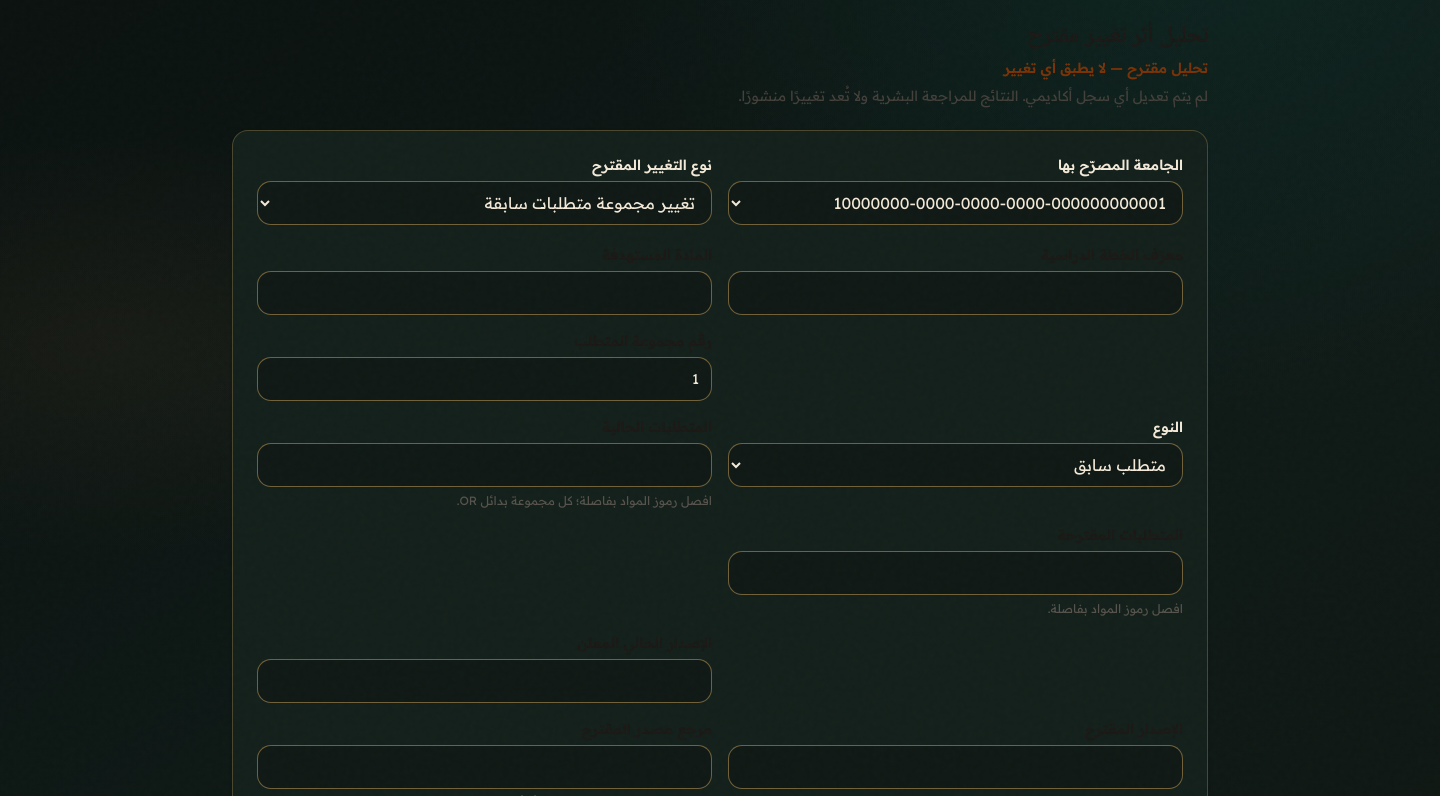
Scenario: policy change remains human review and does not invent before/after
This screenshot has width=1440, height=796.
Expected: the dropdown labelled "الجامعة المصرّح بها" is shown, left=728, top=181, right=1183, bottom=225
Step 1. Select "تغيير إصدار لائحة" in the dropdown labelled "نوع التغيير المقترح" → (484, 203), box left=257, top=181, right=712, bottom=225
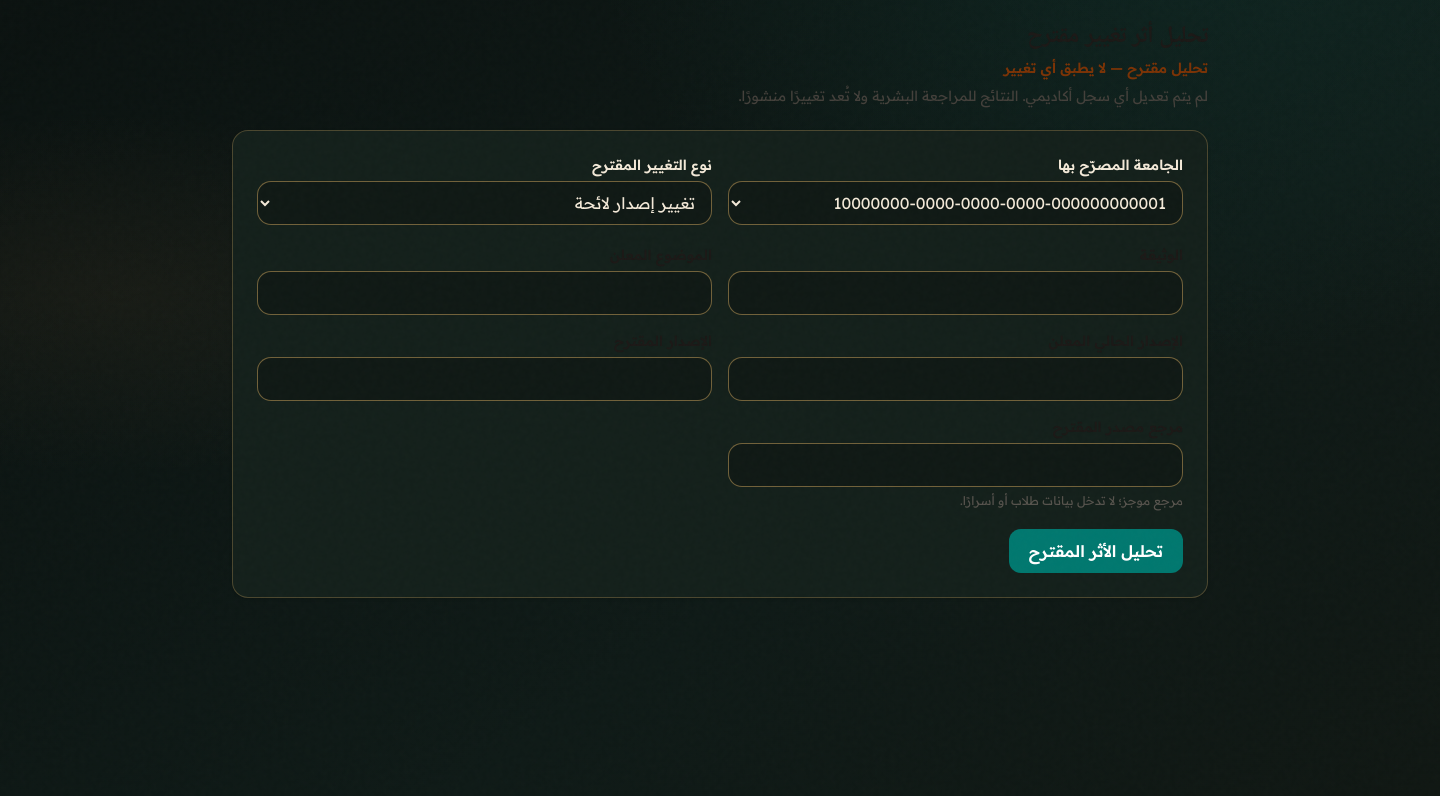
Step 2. Type "POLICY-A" into the field labelled "الوثيقة" → (956, 293), box left=728, top=271, right=1183, bottom=315
Step 3. Type "admission" into the field labelled "الموضوع المعلن" → (484, 293), box left=257, top=271, right=712, bottom=315
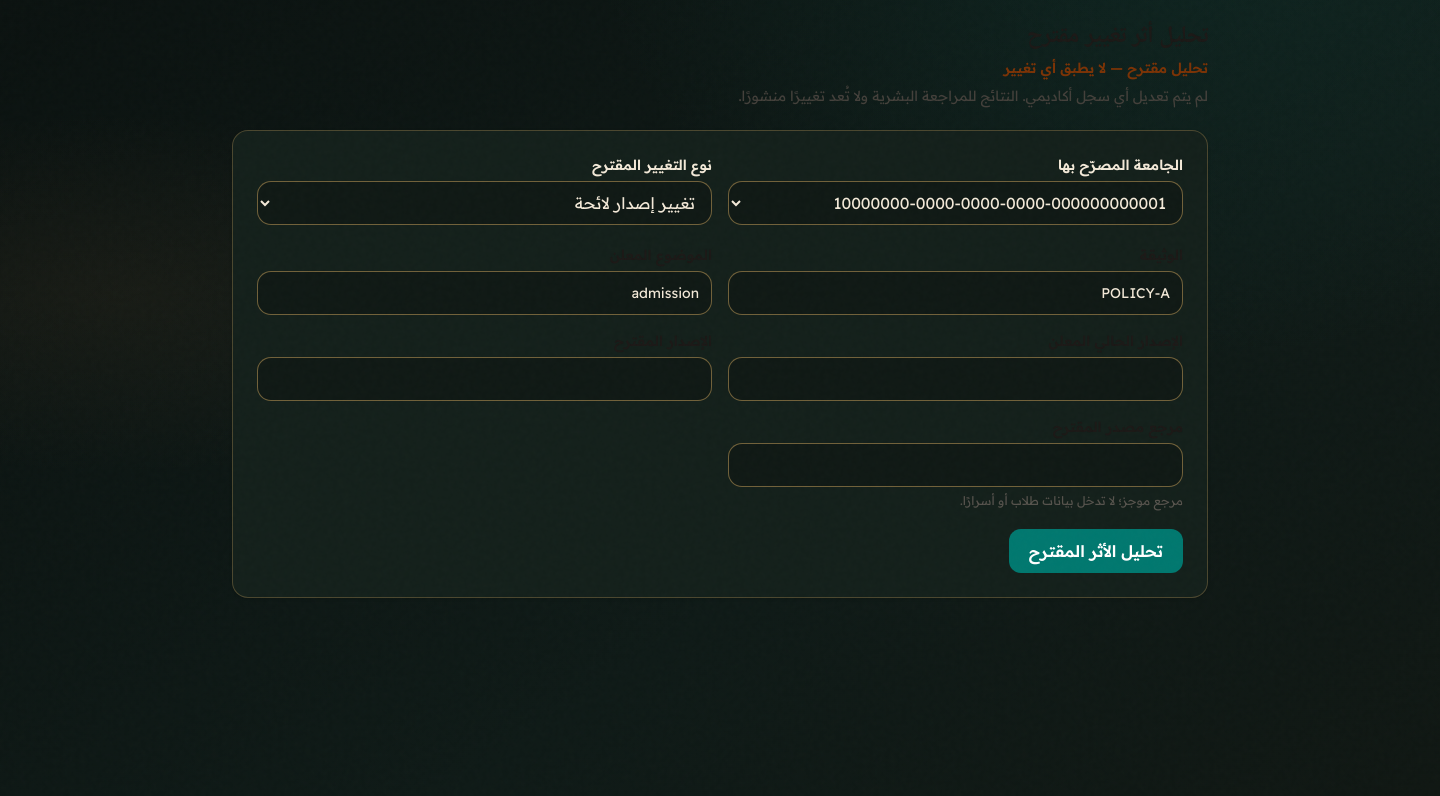
Step 4. Type "v1" into the field labelled "الإصدار الحالي المعلن" → (956, 379), box left=728, top=357, right=1183, bottom=401
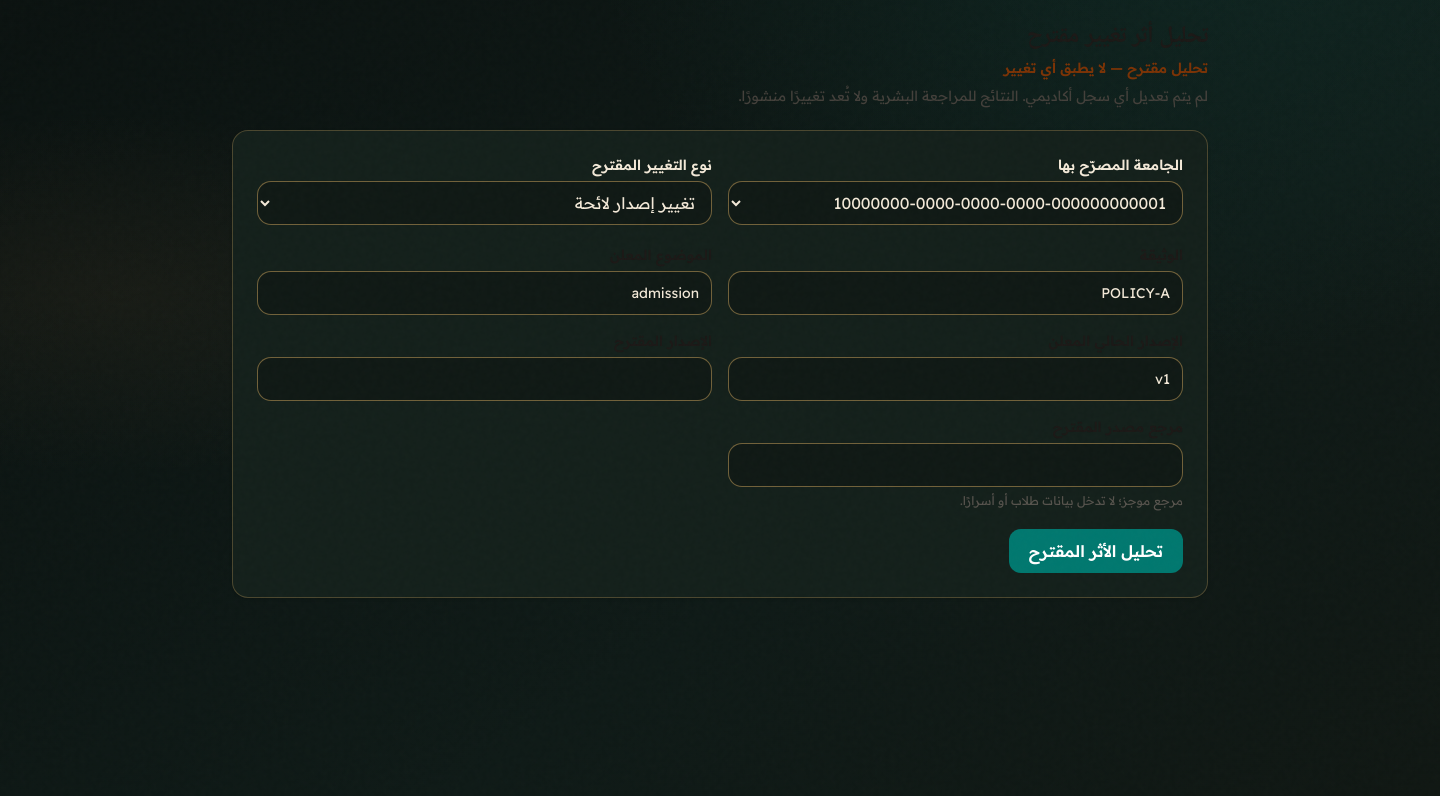
Step 5. Type "v2" into the field labelled "الإصدار المقترح" → (484, 379), box left=257, top=357, right=712, bottom=401
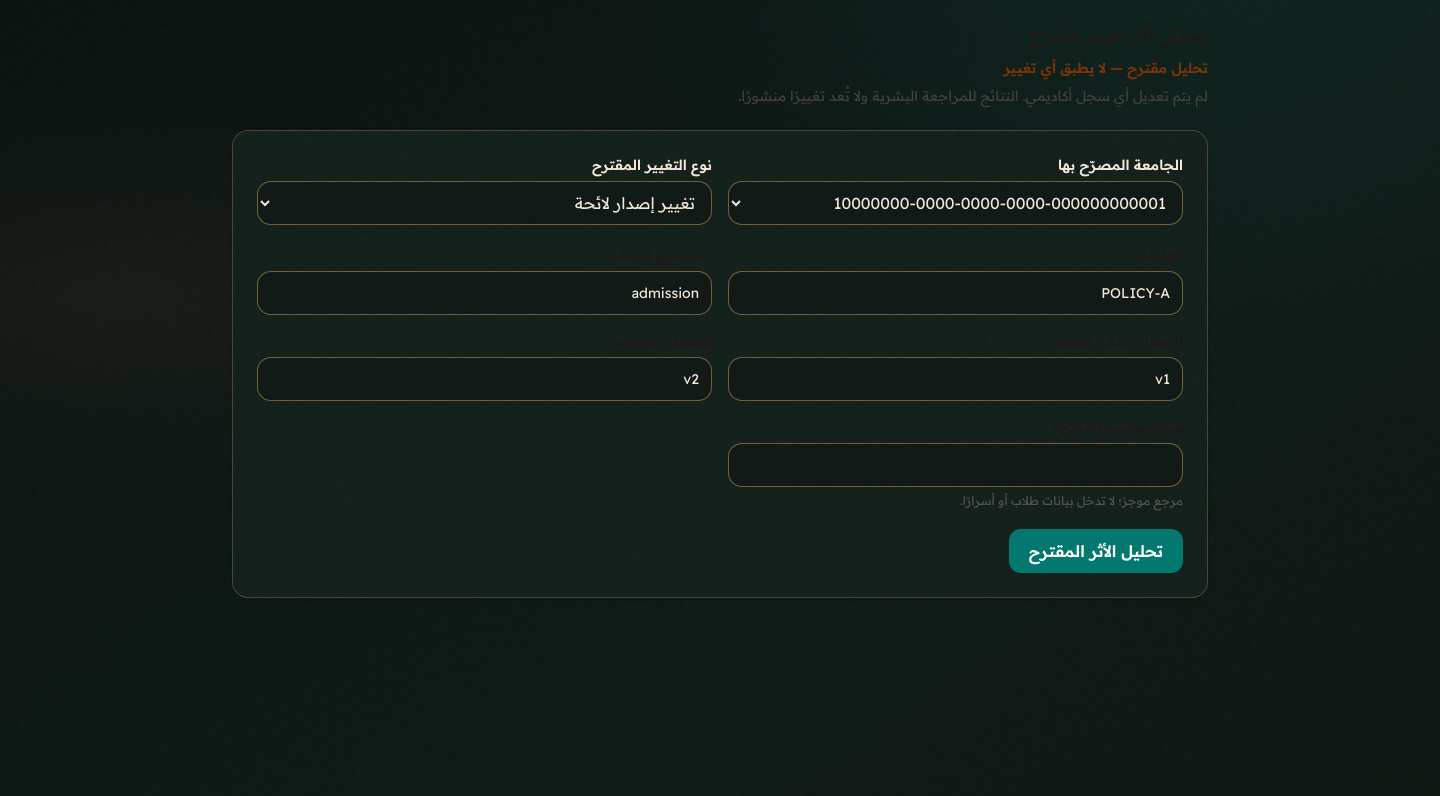
Step 6. Type "proposal" into the field labelled "مرجع مصدر المقترح" → (956, 465), box left=728, top=443, right=1183, bottom=487
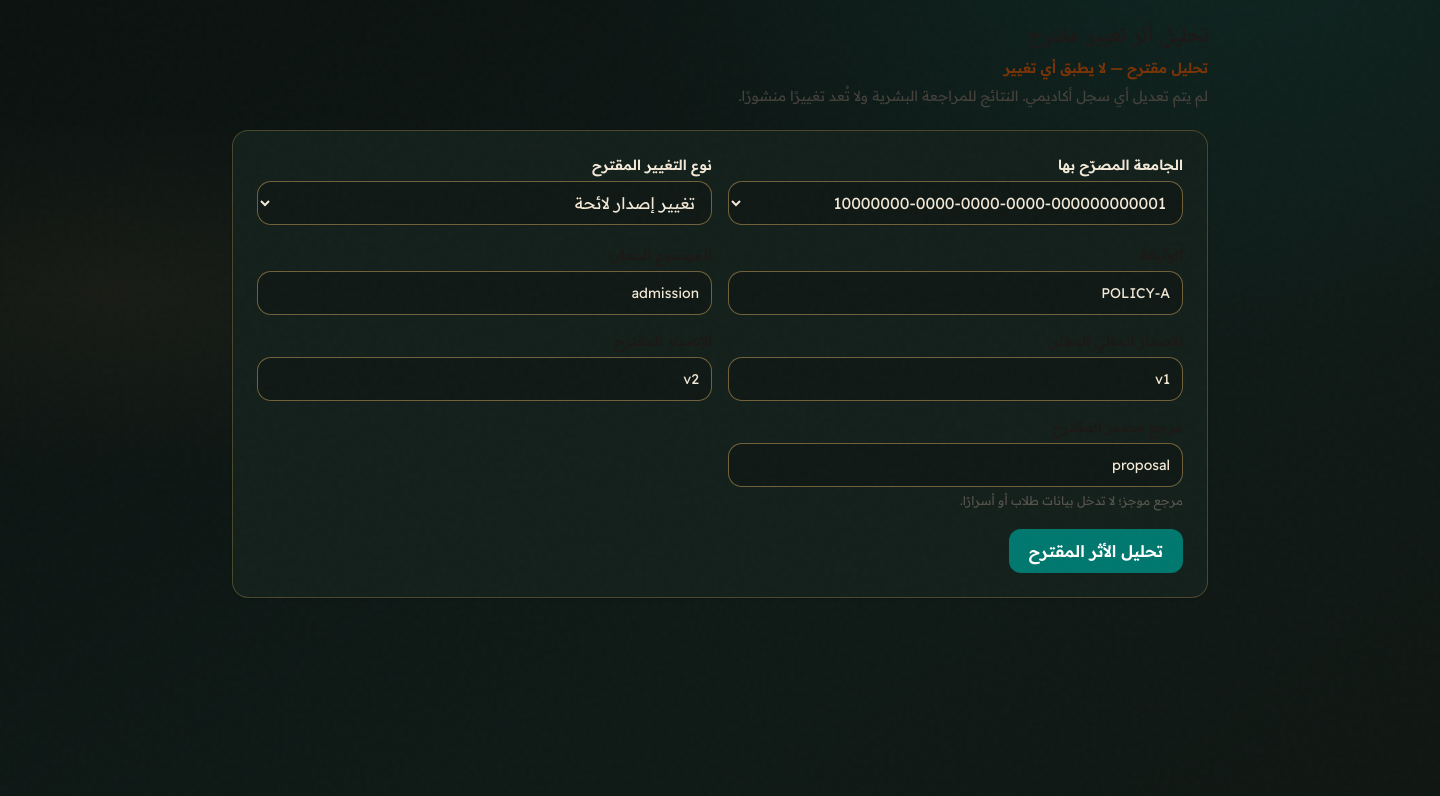
Step 7. Click the button "تحليل الأثر المقترح" → (1096, 551), box left=1009, top=529, right=1183, bottom=573
(page scrolled)
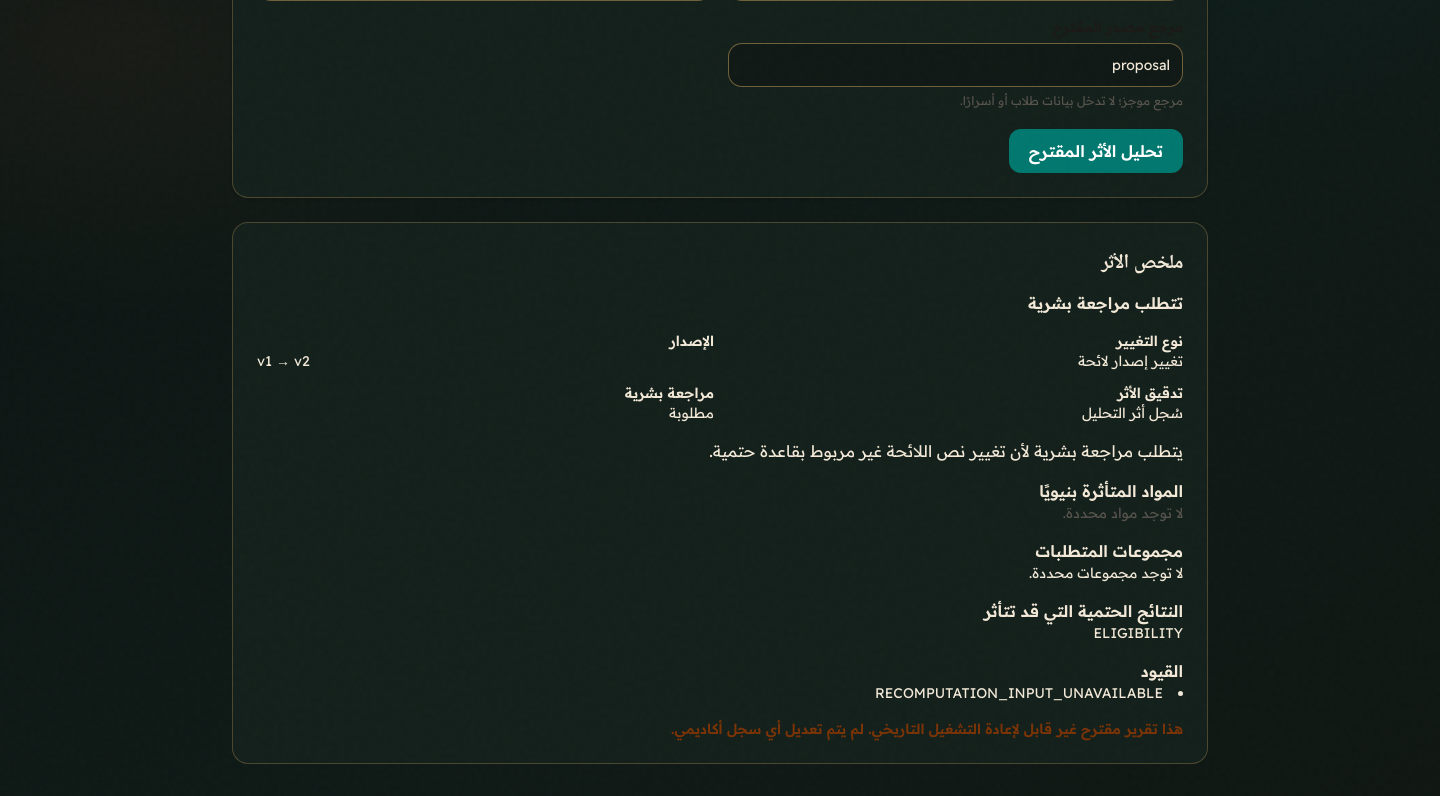
Expected: the text "تغيير نص اللائحة غير مربوط" shows "مراجعة بشرية", left=709, top=441, right=1183, bottom=461
